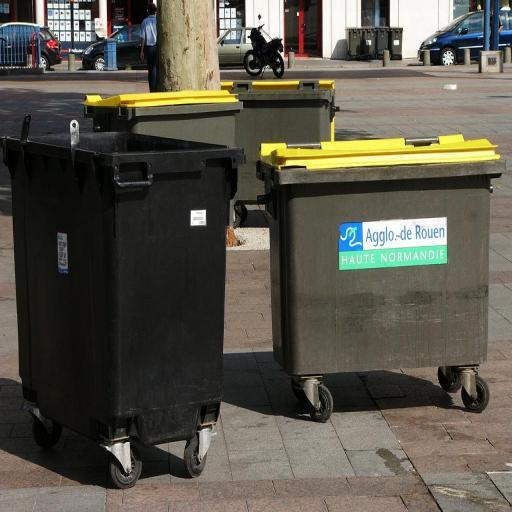trash-can: (8, 86, 244, 500), (249, 118, 512, 426)
